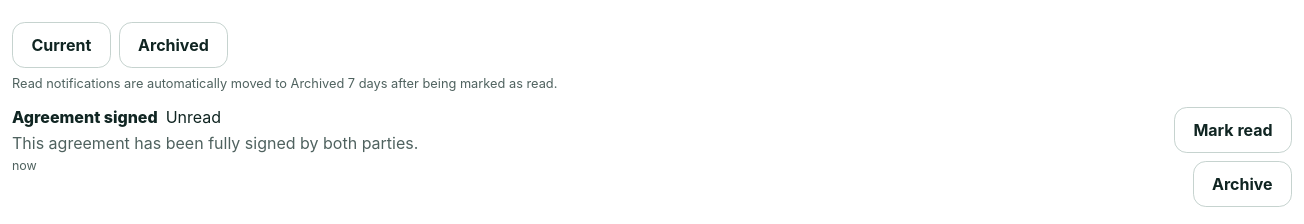
Test case: NotificationCenter › Production follow-up (Notification cleanup + archive) › switching to the Archived tab requests ?view=archived and renders what it returns
Expected: the text "Agreement signed" is shown, 12,107 -> 158,127
Click the tab "Archived".
click(173, 45)  # box 119,22 -> 228,68
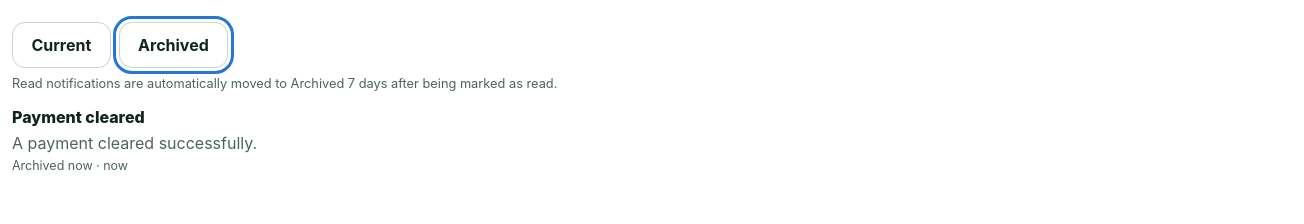
Now the text "Payment cleared" is shown, box 12,107 -> 145,127
